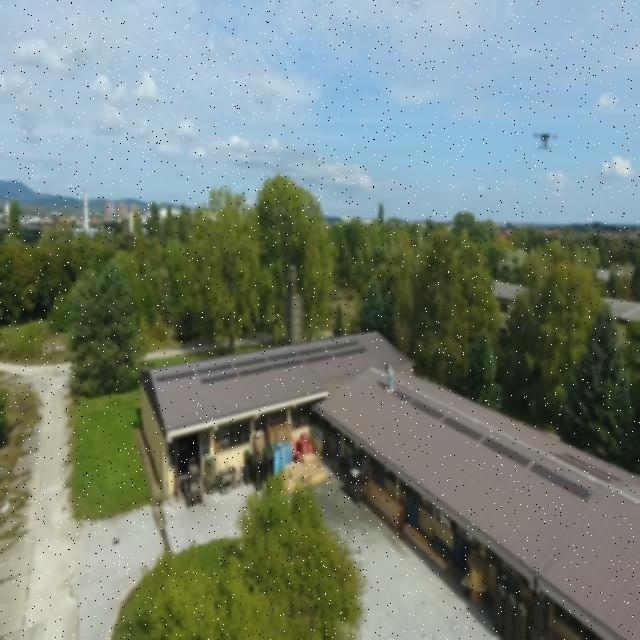UAV: (525, 126, 562, 154)
